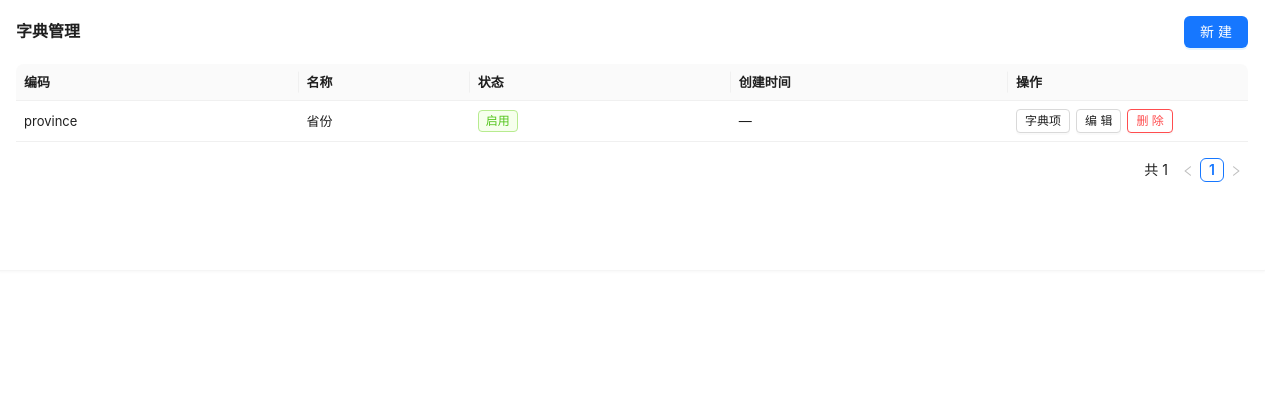
Scenario: DictManagePage › loads enabled entries for a selected type
Step 1. Click the button with test id "dict-type-select" → coordinates (1043, 121), box [1016,109,1070,133]
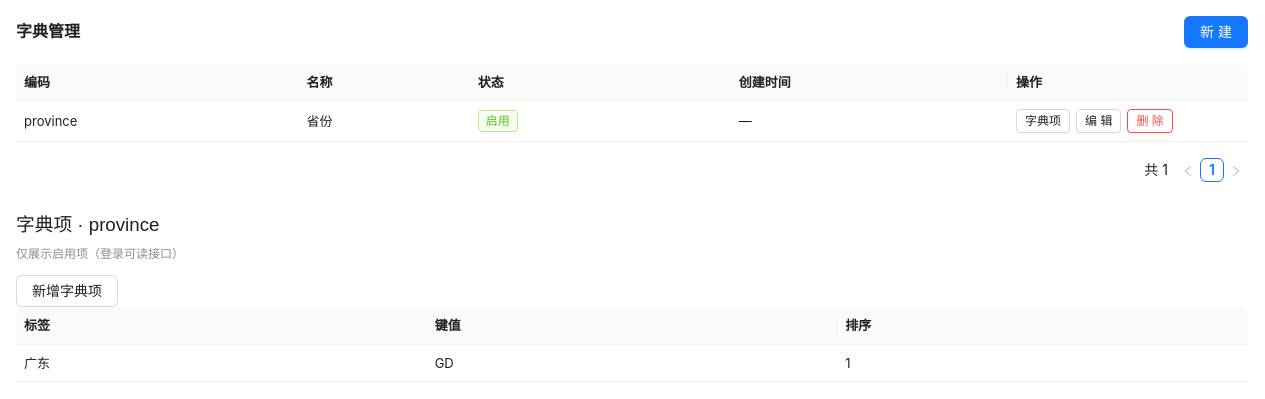
Check: the element with test id "dict-entry-table" shows "GD", box [435,355,454,371]
